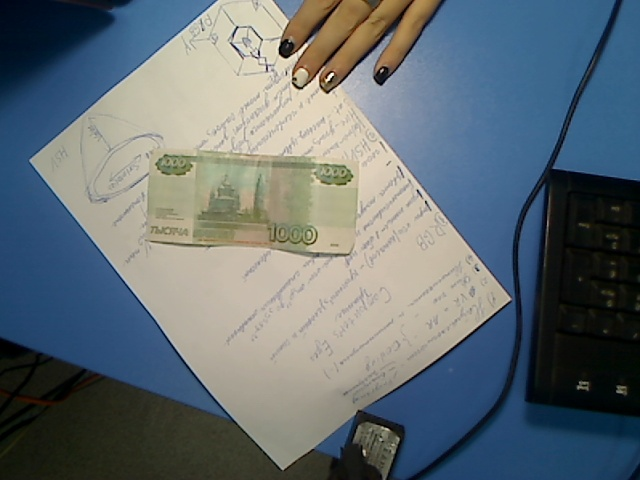banknotes: (144, 145, 360, 261)
